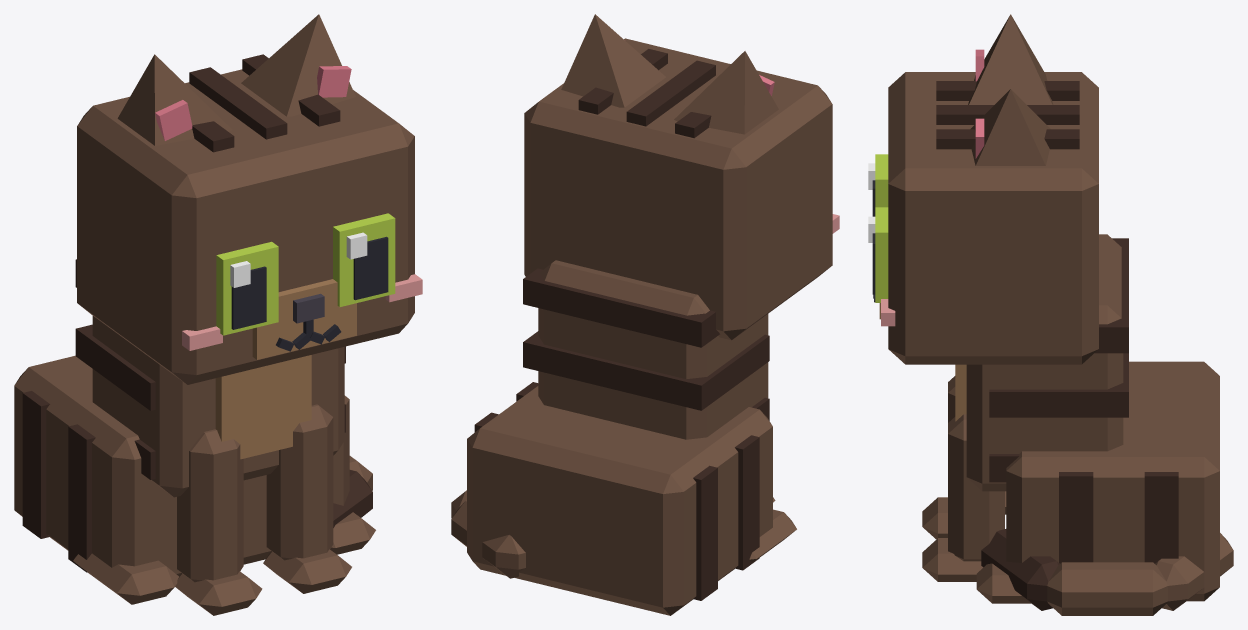
File: CatCafe_Cat_Bramble_Sit.glb
The picture shows the model from 3 angles, left to right: view 1: azimuth 30°, elevation 25°; view 2: azimuth 150°, elevation 25°; view 3: azimuth 270°, elevation 25°; orthographic projection. The views are drawn at different scales.
Visible parts, largest first — view 1: CatCafe_Cat_Bramble_Sit_Head, CatCafe_Cat_Bramble_Sit_Body, CatCafe_Cat_Bramble_Sit_LegF2, CatCafe_Cat_Bramble_Sit_LegF1, CatCafe_Cat_Bramble_Sit_EarL, CatCafe_Cat_Bramble_Sit_Eye2, CatCafe_Cat_Bramble_Sit_Eye1, CatCafe_Cat_Bramble_Sit_EarR, CatCafe_Cat_Bramble_Sit_Tail; view 2: CatCafe_Cat_Bramble_Sit_Body, CatCafe_Cat_Bramble_Sit_Head, CatCafe_Cat_Bramble_Sit_EarL, CatCafe_Cat_Bramble_Sit_EarR, CatCafe_Cat_Bramble_Sit_Tail; view 3: CatCafe_Cat_Bramble_Sit_Head, CatCafe_Cat_Bramble_Sit_Body, CatCafe_Cat_Bramble_Sit_Tail, CatCafe_Cat_Bramble_Sit_LegF1, CatCafe_Cat_Bramble_Sit_EarL, CatCafe_Cat_Bramble_Sit_EarR, CatCafe_Cat_Bramble_Sit_Eye1, CatCafe_Cat_Bramble_Sit_LegF2, CatCafe_Cat_Bramble_Sit_Eye2.
Part boxes in pixels (bbox=[...]): CatCafe_Cat_Bramble_Sit_Head: bbox=[77, 54, 422, 384]; CatCafe_Cat_Bramble_Sit_Body: bbox=[14, 259, 375, 604]; CatCafe_Cat_Bramble_Sit_LegF2: bbox=[175, 429, 262, 615]; CatCafe_Cat_Bramble_Sit_LegF1: bbox=[263, 404, 351, 593]; CatCafe_Cat_Bramble_Sit_EarL: bbox=[241, 14, 355, 116]; CatCafe_Cat_Bramble_Sit_Eye2: bbox=[216, 241, 278, 335]; CatCafe_Cat_Bramble_Sit_Eye1: bbox=[333, 213, 395, 306]; CatCafe_Cat_Bramble_Sit_EarR: bbox=[117, 54, 232, 145]; CatCafe_Cat_Bramble_Sit_Tail: bbox=[333, 456, 372, 527]; CatCafe_Cat_Bramble_Sit_Body: bbox=[467, 260, 796, 615]; CatCafe_Cat_Bramble_Sit_Head: bbox=[524, 38, 839, 340]; CatCafe_Cat_Bramble_Sit_EarL: bbox=[561, 14, 665, 107]; CatCafe_Cat_Bramble_Sit_EarR: bbox=[674, 51, 778, 134]; CatCafe_Cat_Bramble_Sit_Tail: bbox=[451, 490, 525, 578]; CatCafe_Cat_Bramble_Sit_Head: bbox=[873, 72, 1098, 364]; CatCafe_Cat_Bramble_Sit_Body: bbox=[955, 234, 1219, 603]; CatCafe_Cat_Bramble_Sit_Tail: bbox=[981, 529, 1233, 615]; CatCafe_Cat_Bramble_Sit_LegF1: bbox=[922, 414, 1004, 581]; CatCafe_Cat_Bramble_Sit_EarL: bbox=[970, 89, 1050, 165]; CatCafe_Cat_Bramble_Sit_EarR: bbox=[968, 14, 1053, 104]; CatCafe_Cat_Bramble_Sit_Eye1: bbox=[868, 207, 888, 302]; CatCafe_Cat_Bramble_Sit_LegF2: bbox=[922, 376, 955, 539]; CatCafe_Cat_Bramble_Sit_Eye2: bbox=[868, 154, 888, 216].
Bounding box in the file's own units: 1.05 × 1.85 × 1.22.
1 material, 1 textured.
